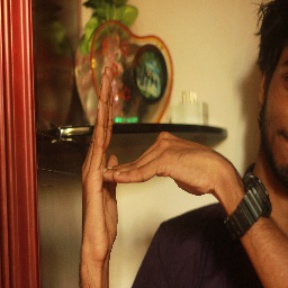Z: (70, 61, 221, 260)
